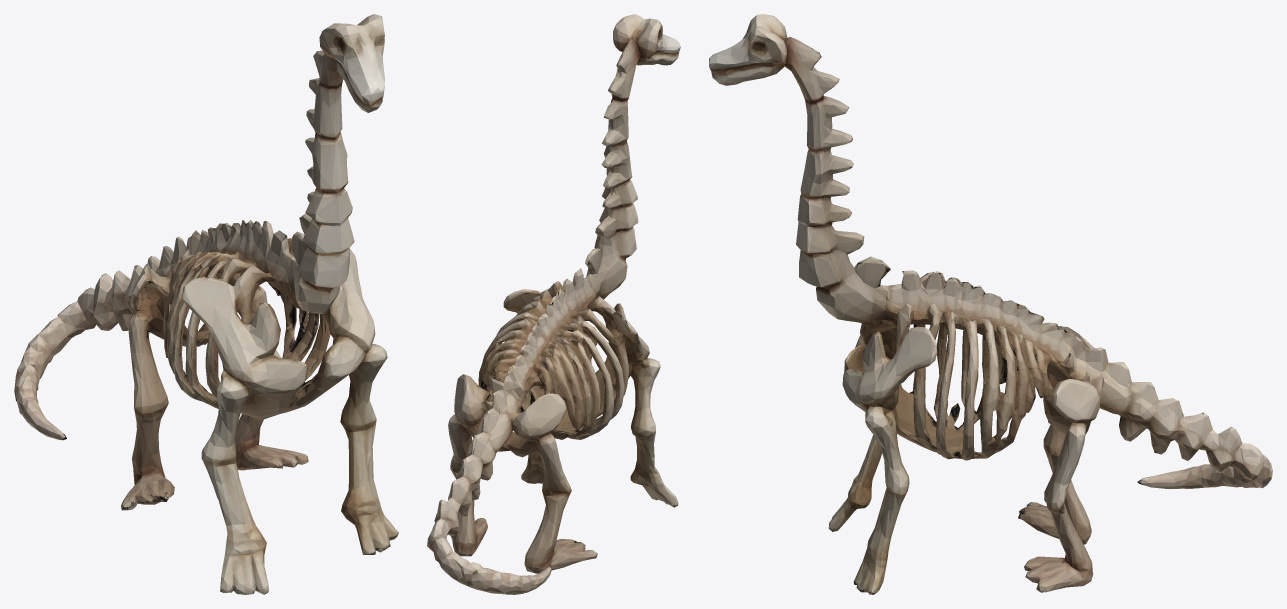
File: brachiosaurus-skjelett.glb
3 renders of one model, left to right at view 1: azimuth 30°, elevation 25°; view 2: azimuth 150°, elevation 25°; view 3: azimuth 270°, elevation 25°, orthographic. The views are drawn at different scales.
Parts seen in each view (by area): view 1: geometry_0; view 2: geometry_0; view 3: geometry_0.
Boxes of the visible parts, left/top/right/bottom form: geometry_0: left=14, top=14, right=398, bottom=594; geometry_0: left=427, top=14, right=680, bottom=594; geometry_0: left=709, top=14, right=1272, bottom=594.
Size of the model in its own units: 0.3569 by 0.9998 by 0.9559.
1 material, 1 textured.
